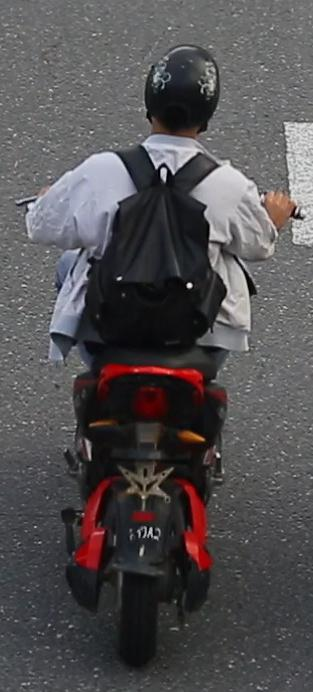helmet: (137, 37, 226, 171)
